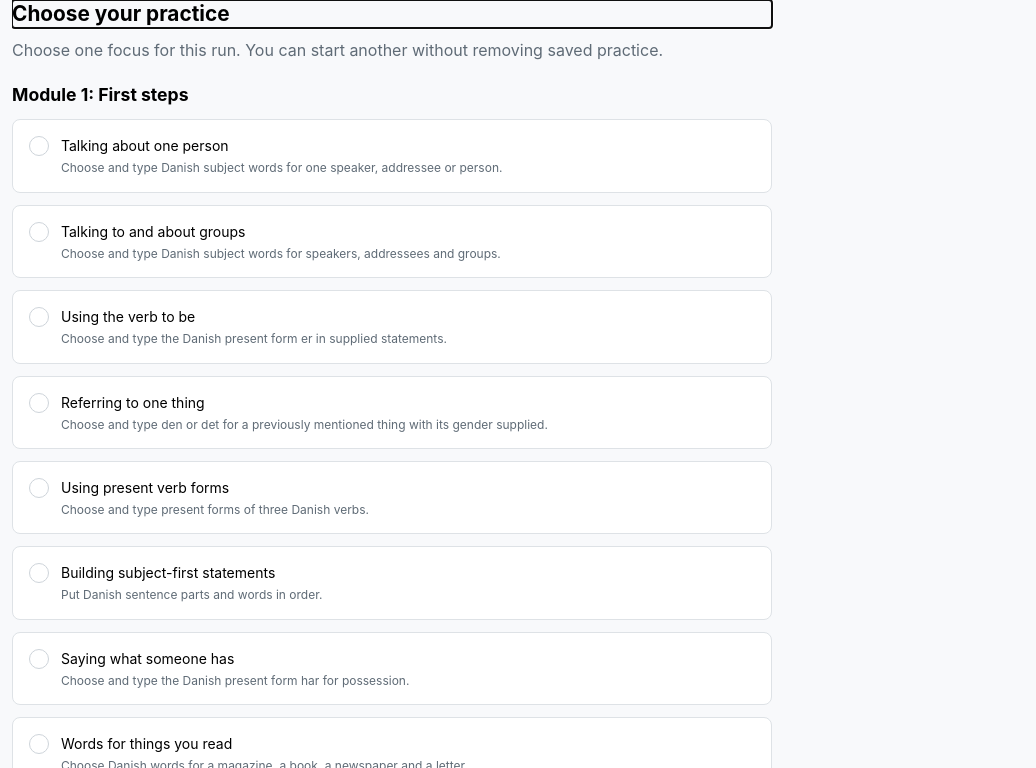
creates Talking to and about groups only after its exact catalog choice
The width and height of the screenshot is (1036, 768).
Check: the heading "Module 1: First steps" is shown, box [12,84,188,105]
Step 1. Click the radio button labelled "Talking to and about groups" → (39, 232), box [29,222,49,242]
(page scrolled)
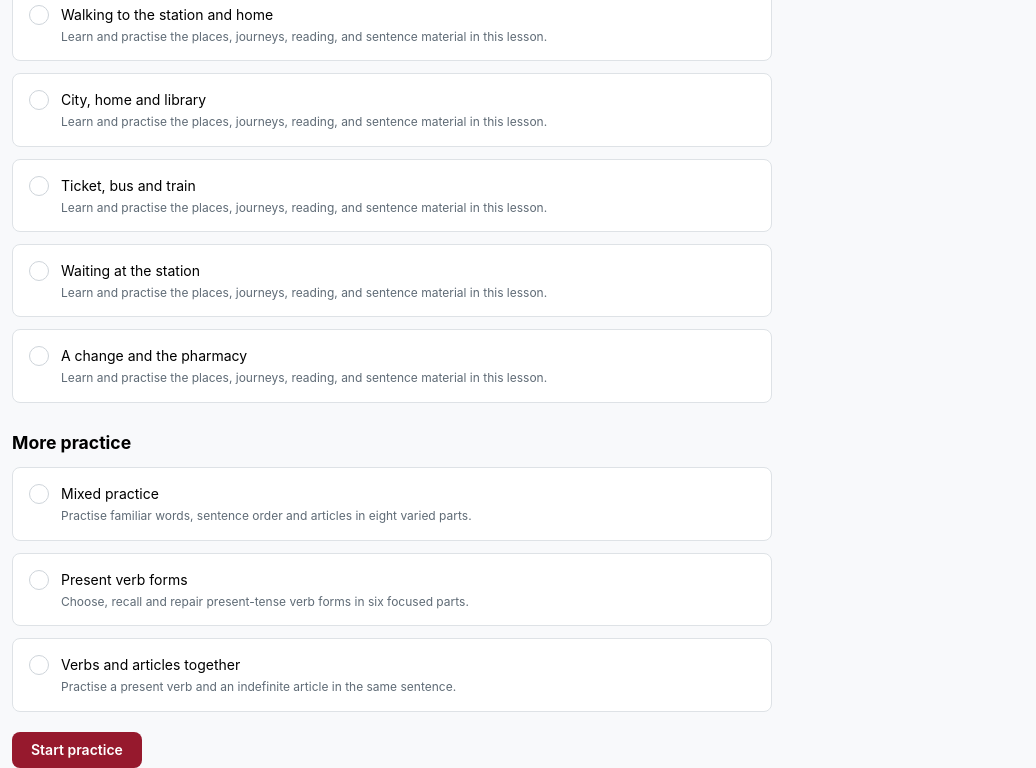
Step 2. Click the button "Start practice" → (77, 750), box [12,732,142,767]
(page scrolled)
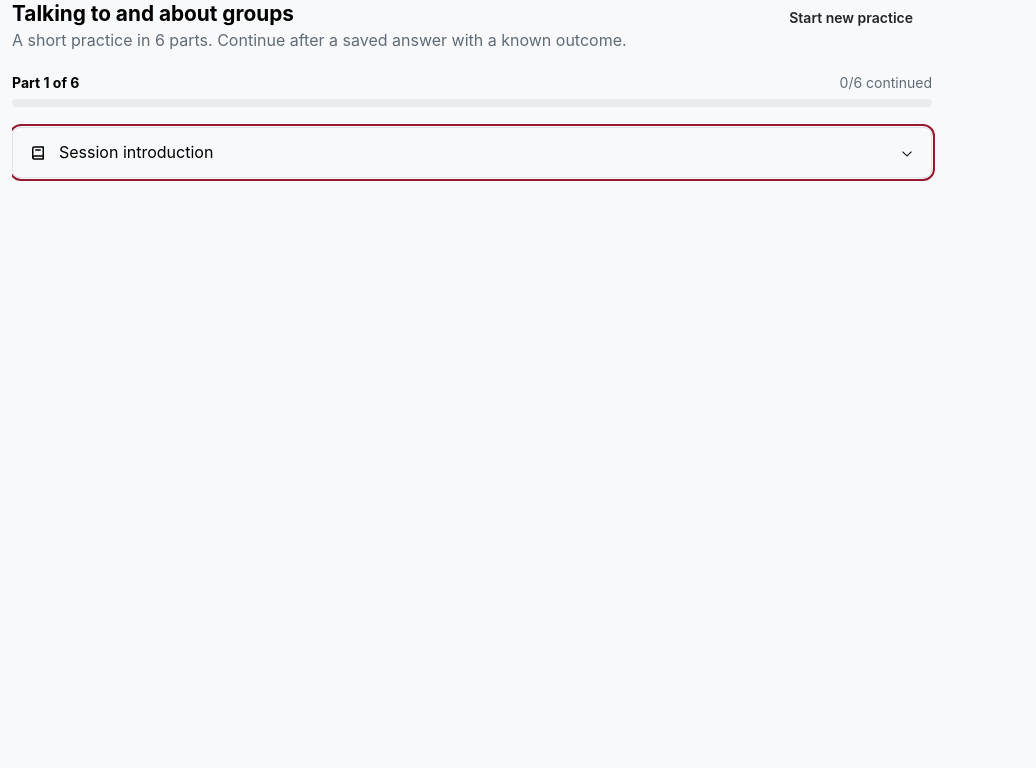
Check: the heading "Talking to and about groups" is shown, box [12,1,294,26]
